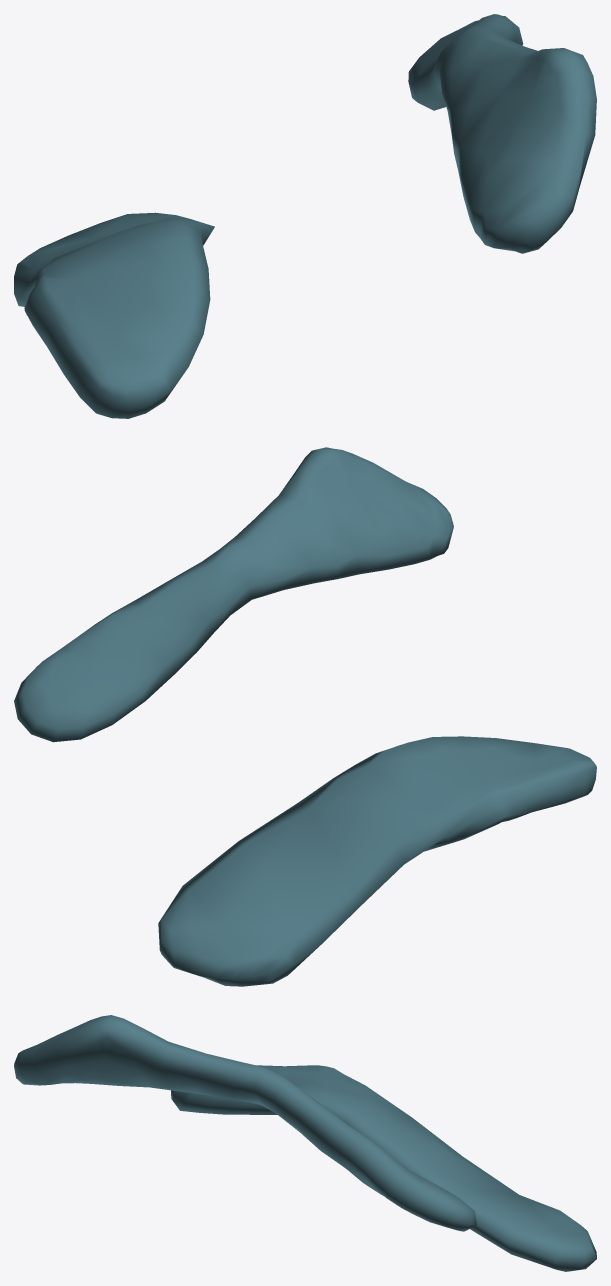
Rendered from Middle_phalanx_4th_finger_foot_right_001.glb.
3 renders of one model, top to bottom at view 1: azimuth 30°, elevation 25°; view 2: azimuth 150°, elevation 25°; view 3: azimuth 270°, elevation 25°, orthographic. The views are drawn at different scales.
Parts seen in each view (by area): view 1: Middle_phalanx_of_4th_finger_of_foot.r.002_Generated_Mesh_Fr; view 2: Middle_phalanx_of_4th_finger_of_foot.r.002_Generated_Mesh_Fr; view 3: Middle_phalanx_of_4th_finger_of_foot.r.002_Generated_Mesh_Fr.
Boxes of the visible parts, <box> form: Middle_phalanx_of_4th_finger_of_foot.r.002_Generated_Mesh_Fr: <box>14,14,596,418</box>; Middle_phalanx_of_4th_finger_of_foot.r.002_Generated_Mesh_Fr: <box>14,447,596,986</box>; Middle_phalanx_of_4th_finger_of_foot.r.002_Generated_Mesh_Fr: <box>14,1015,596,1271</box>.
Bounding box in the file's own units: 0.00699 × 0.00479 × 0.00829.
